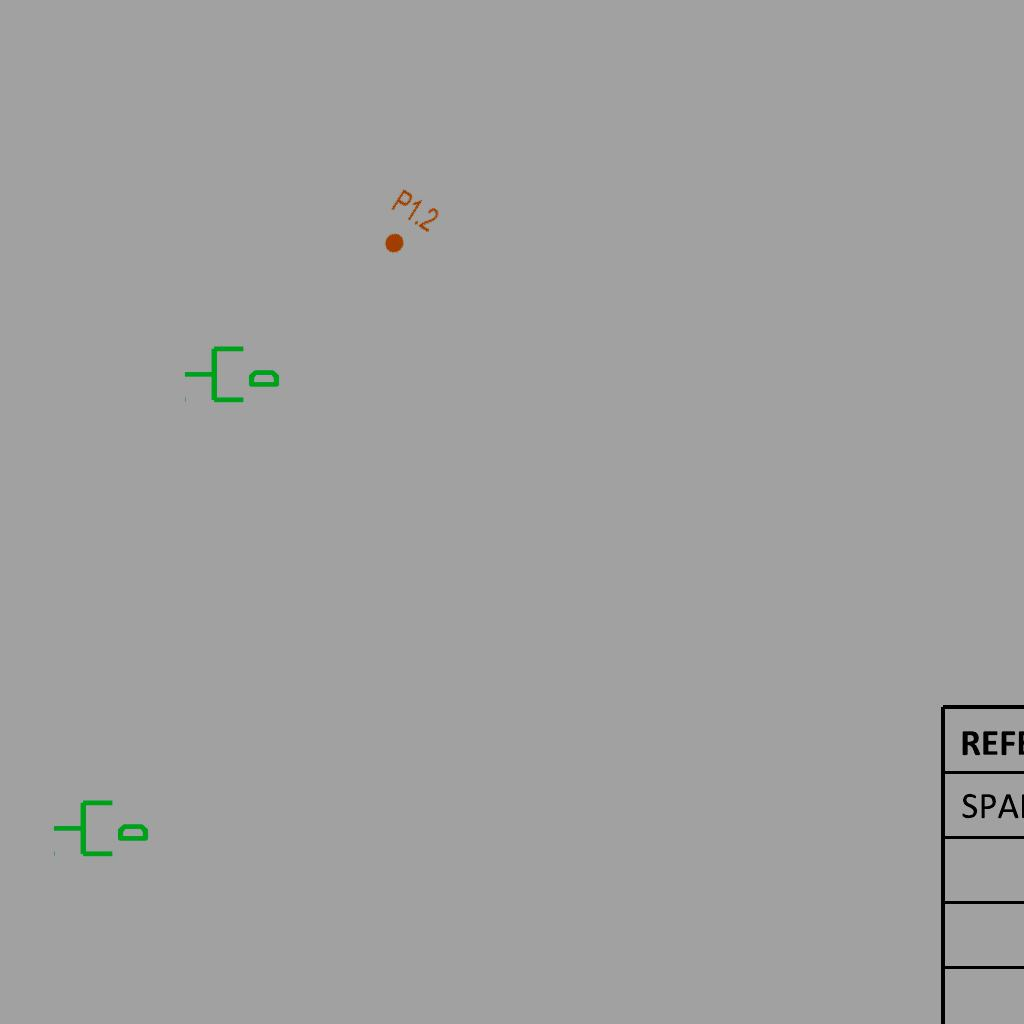Datenanschluss_einfach: (182, 338, 282, 407), (51, 792, 151, 861)
Downlight_LED_Einbauleuchten_Flur: (369, 186, 443, 266)
